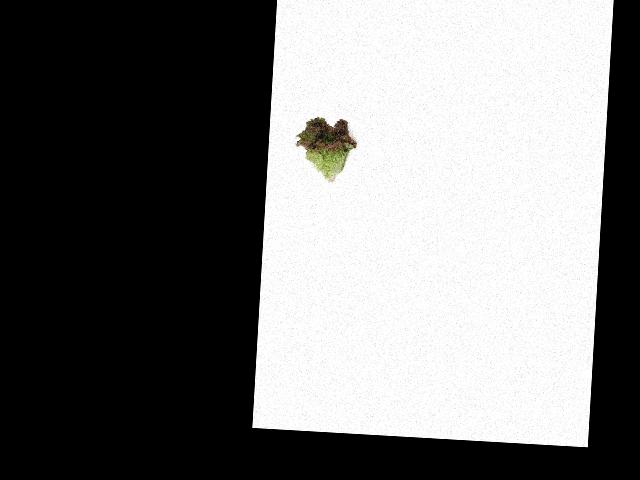lettuce: (290, 107, 364, 185)
